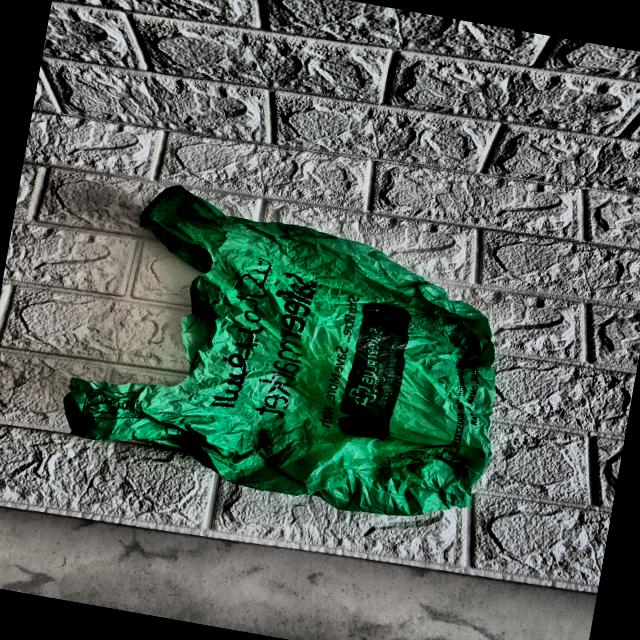plastic bag: (42, 167, 540, 548)
